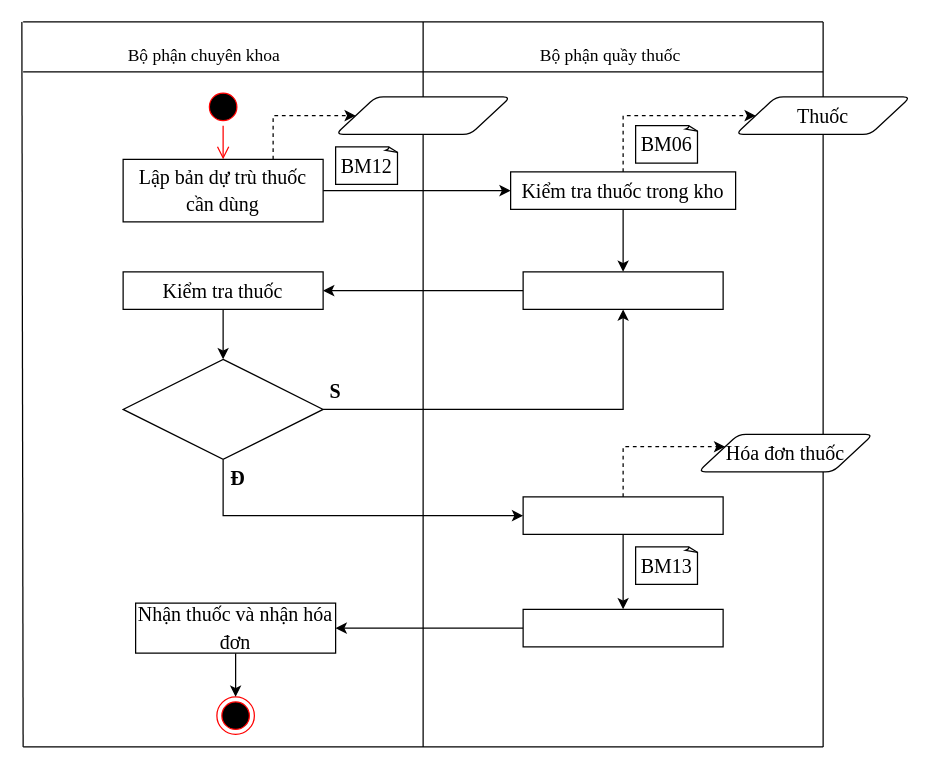
This 933x770 diagram has some shape labels left out. The shapes that lost their labels are listed below. From the top down, each one's centre as x and y in pixels, then its label:
At point (422, 115): "Bản dự trù thuốc".
At point (622, 290): "Cấp thuốc".
At point (222, 408): "Thuốc đạt yêu cầu".
At point (622, 515): "Lập hóa đơn lĩnh thuốc".
At point (622, 627): "Gửi hóa đơn lĩnh thuốc".
